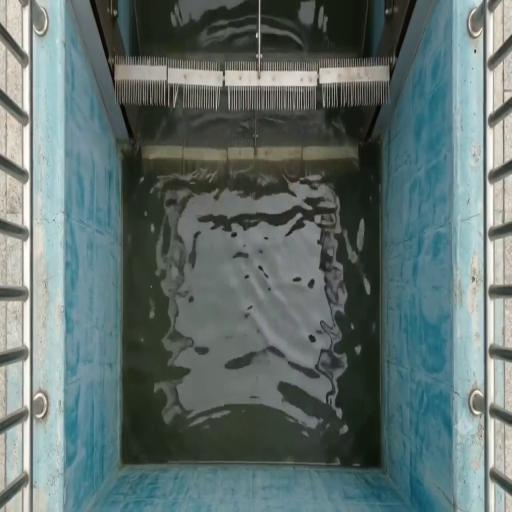rake_broken: (296, 66, 374, 119), (160, 67, 209, 116), (209, 72, 249, 112)
